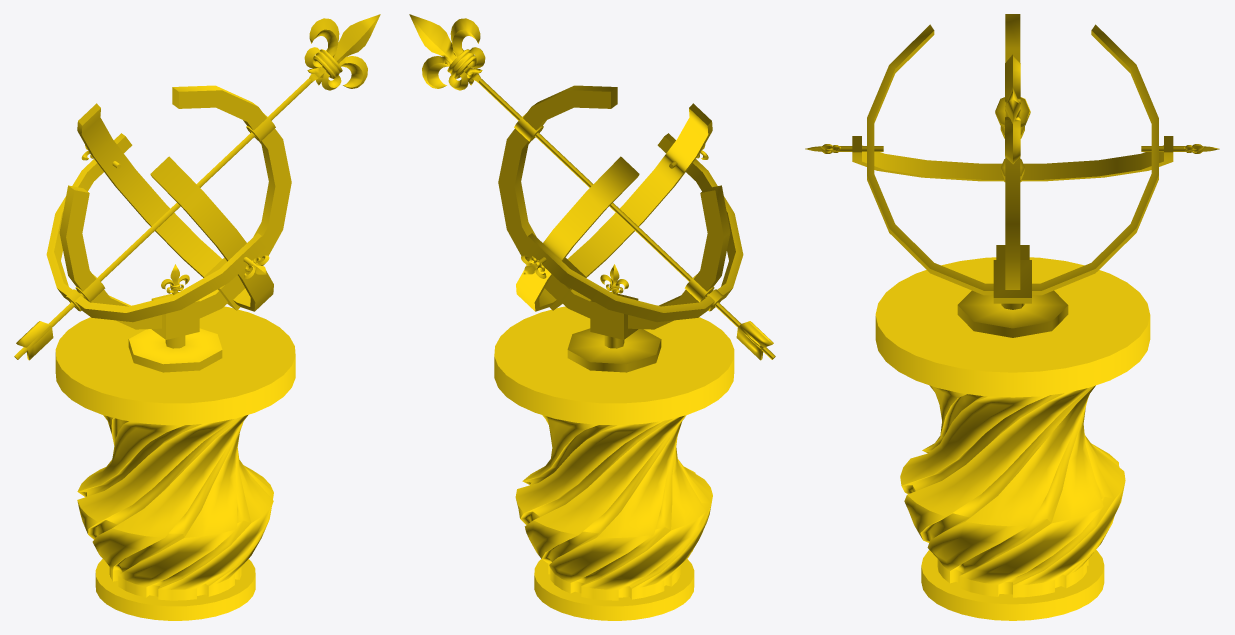
Rendered from sundial.glb.
The picture shows the model from 3 angles, left to right: view 1: azimuth 30°, elevation 25°; view 2: azimuth 150°, elevation 25°; view 3: azimuth 270°, elevation 25°; orthographic projection. The views are drawn at different scales.
Parts seen in each view (by area): view 1: Cylinder.001, Cylinder; view 2: Cylinder.001, Cylinder; view 3: Cylinder.001, Cylinder.
Part boxes in pixels (<box>): Cylinder.001: <box>55,305,295,620</box>; Cylinder: <box>14,14,380,372</box>; Cylinder.001: <box>494,305,734,620</box>; Cylinder: <box>409,14,775,372</box>; Cylinder.001: <box>875,257,1150,620</box>; Cylinder: <box>805,14,1219,337</box>.
Size of the model in its own units: 6.38 by 8.87 by 5.5.
